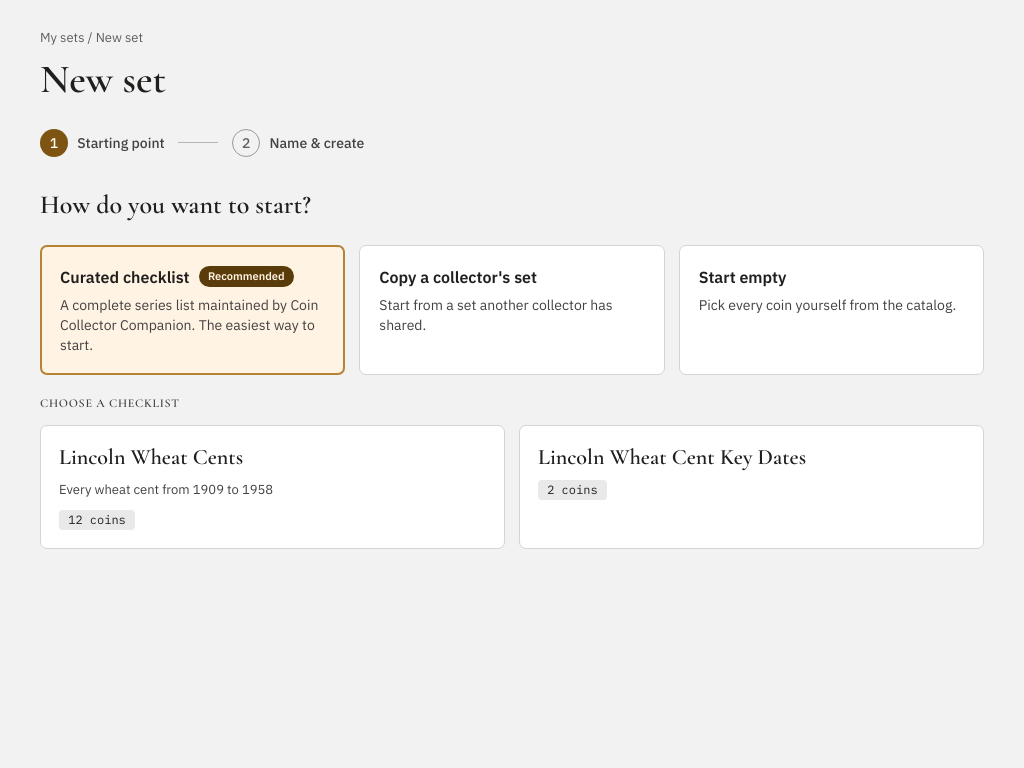
Test: NewSetPage › criterion 7: curated checklist cards › clicking a card moves to step 2 with that source, requesting its detail by id
Click the button with test id "set-new-canonical-card".
click(672, 457)  # box [519,425,984,549]
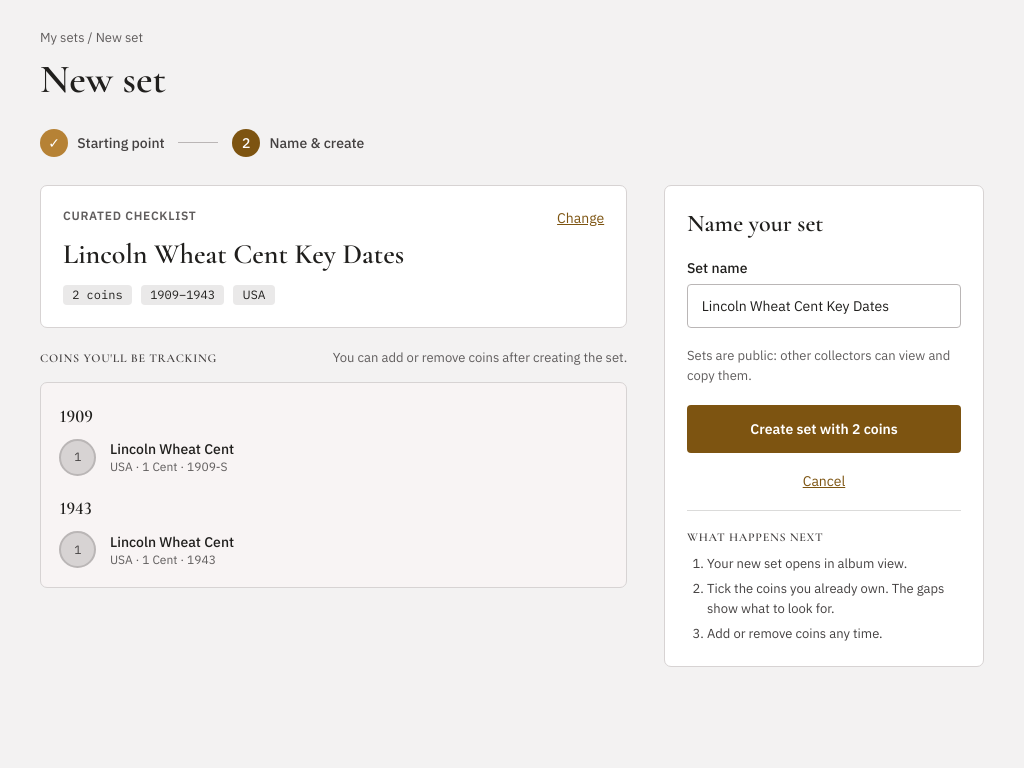
Expected: the heading with test id "set-new-source-name" reads "Lincoln Wheat Cent Key Dates", [63,237,404,271]
Expected: the element with test id "set-new-step-2" is shown, [40,184,984,667]
Expected: the element with test id "set-new-step-1" is gone
